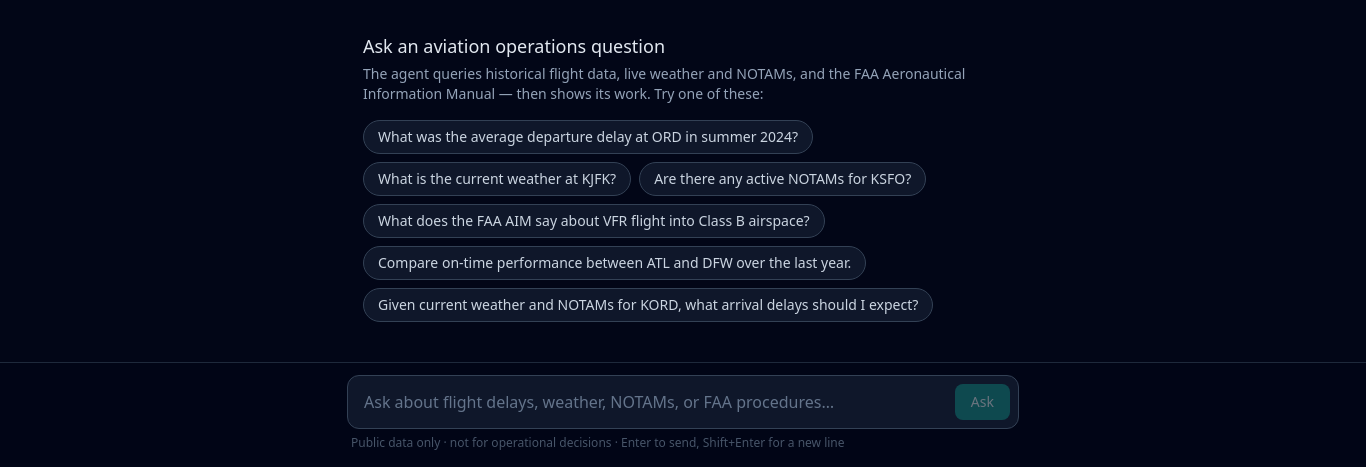
ChatSurface › surfaces a rate-limit message linking to the repo
The image size is (1366, 467).
Type "hello" into the text box named "ask an aviation" at (651, 402), box x1=356 y1=384 x2=947 y2=420
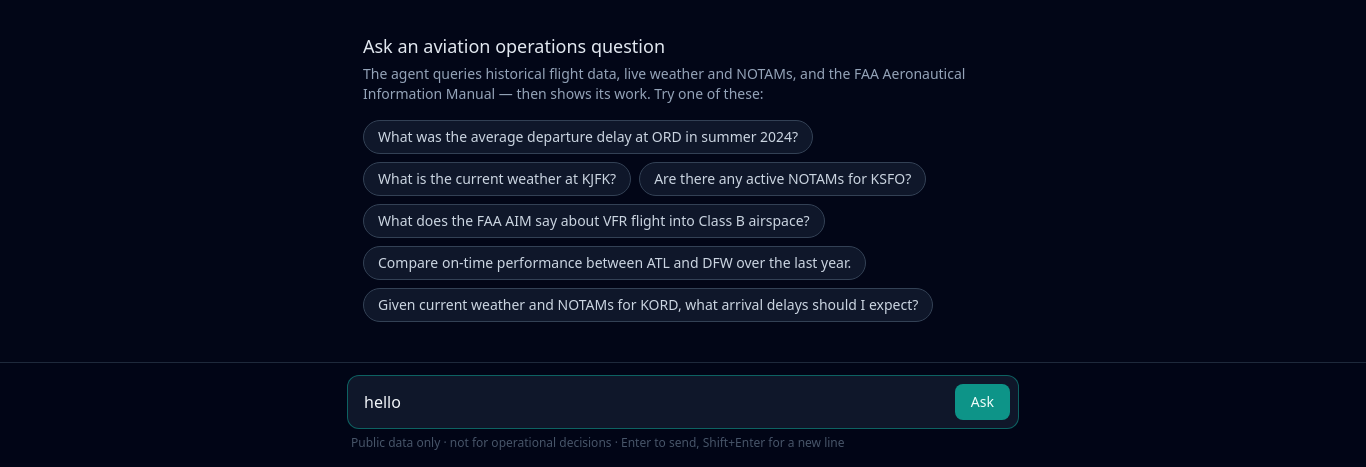
Click the button "Ask" at (982, 402), box x1=955 y1=384 x2=1010 y2=420
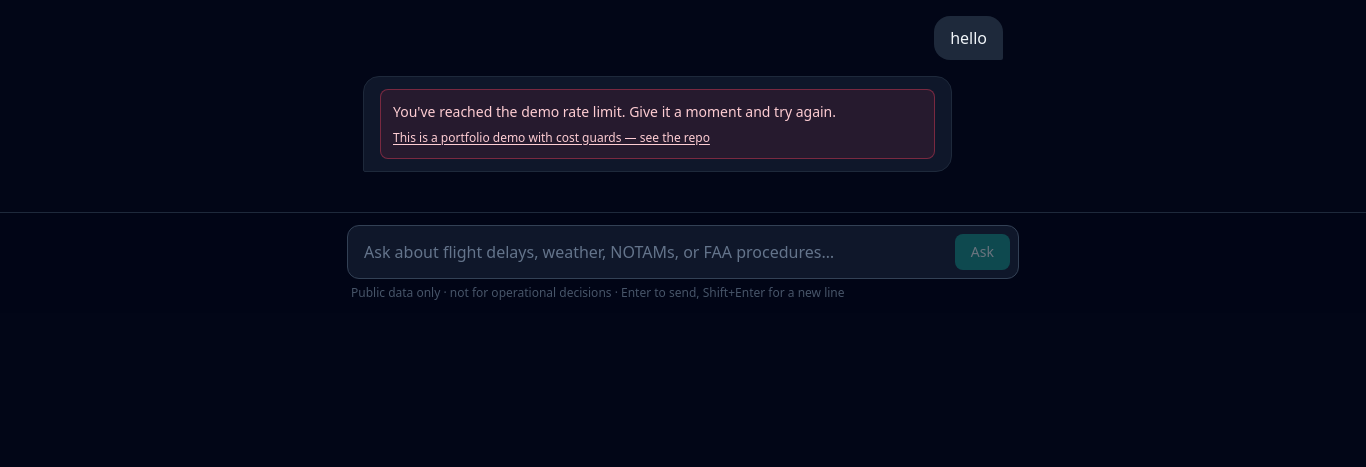
expect the text "reached the demo rate limit" is shown: met, box x1=393 y1=102 x2=836 y2=121
